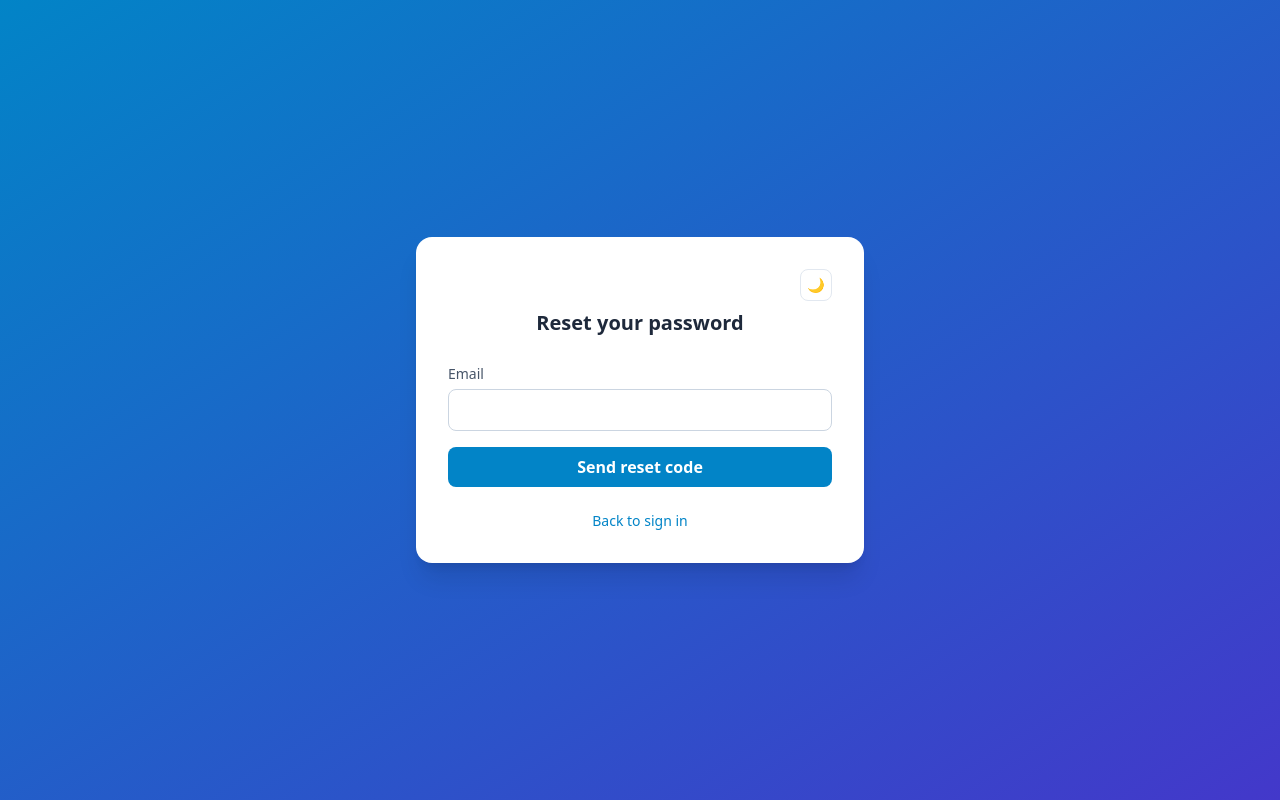
Scenario: ForgotPassword › submitting a valid code and new password completes the flow
In the field labelled "Email": (640, 410) [448,389,832,431], type "a@b.com"
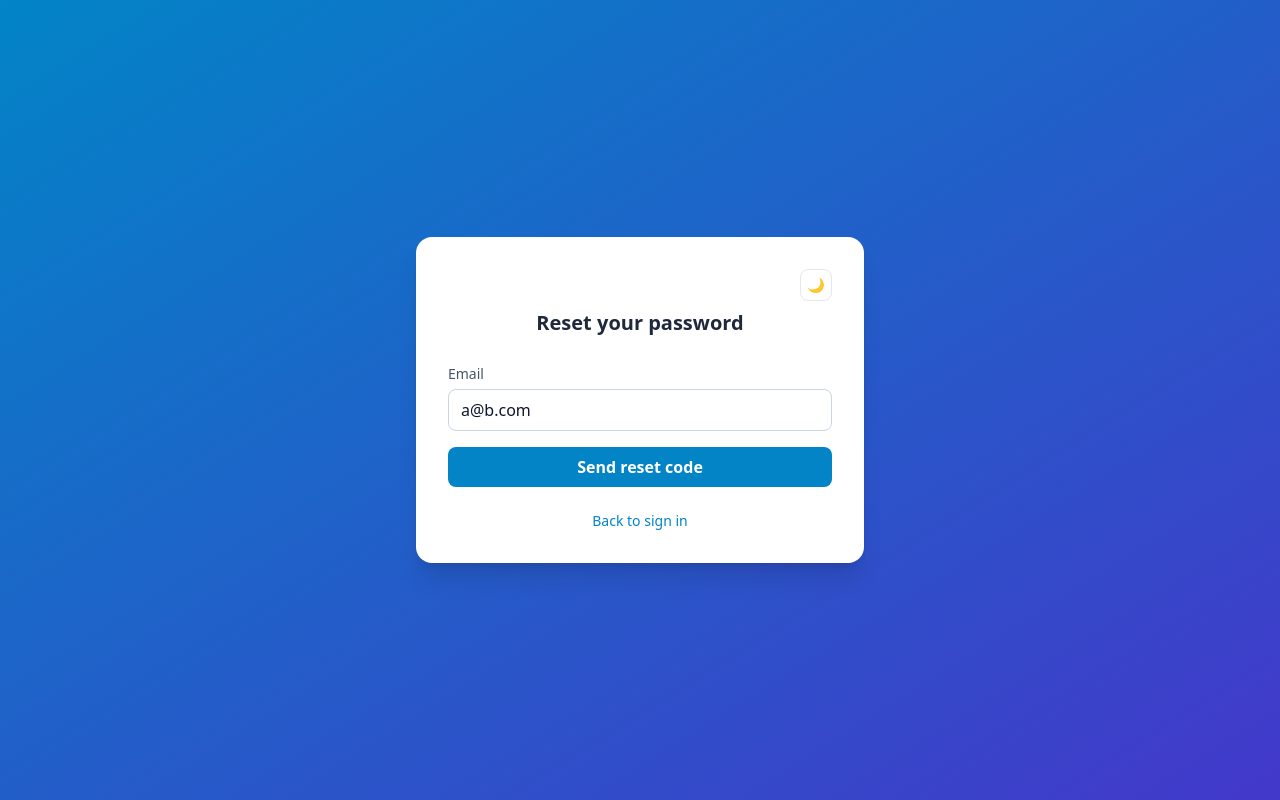
Click the button "Send reset code": (640, 467) [448,447,832,487]
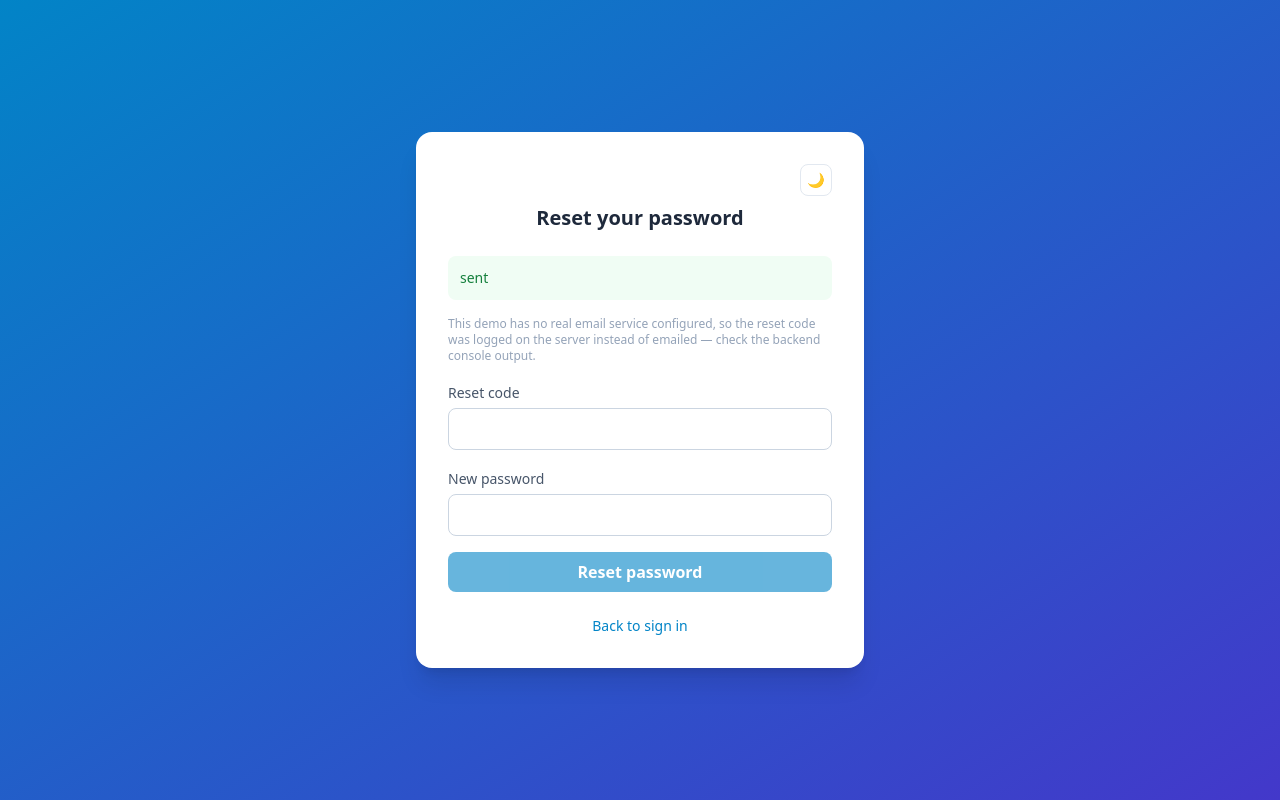
Expected: the field labelled "Reset code" is shown
In the field labelled "Reset code": (640, 429) [448,408,832,450], type "abc123"
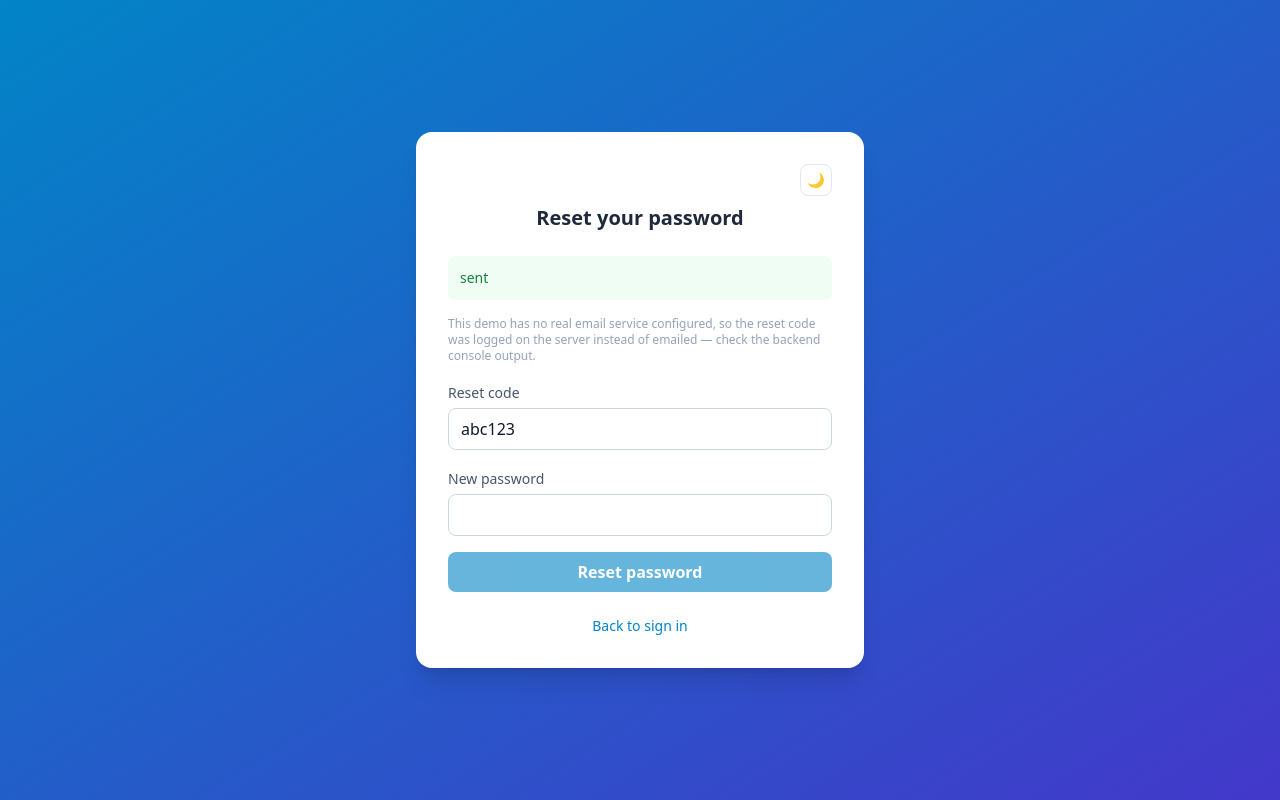
In the password field labelled "New password": (640, 515) [448,494,832,536], type "Newpass123!"
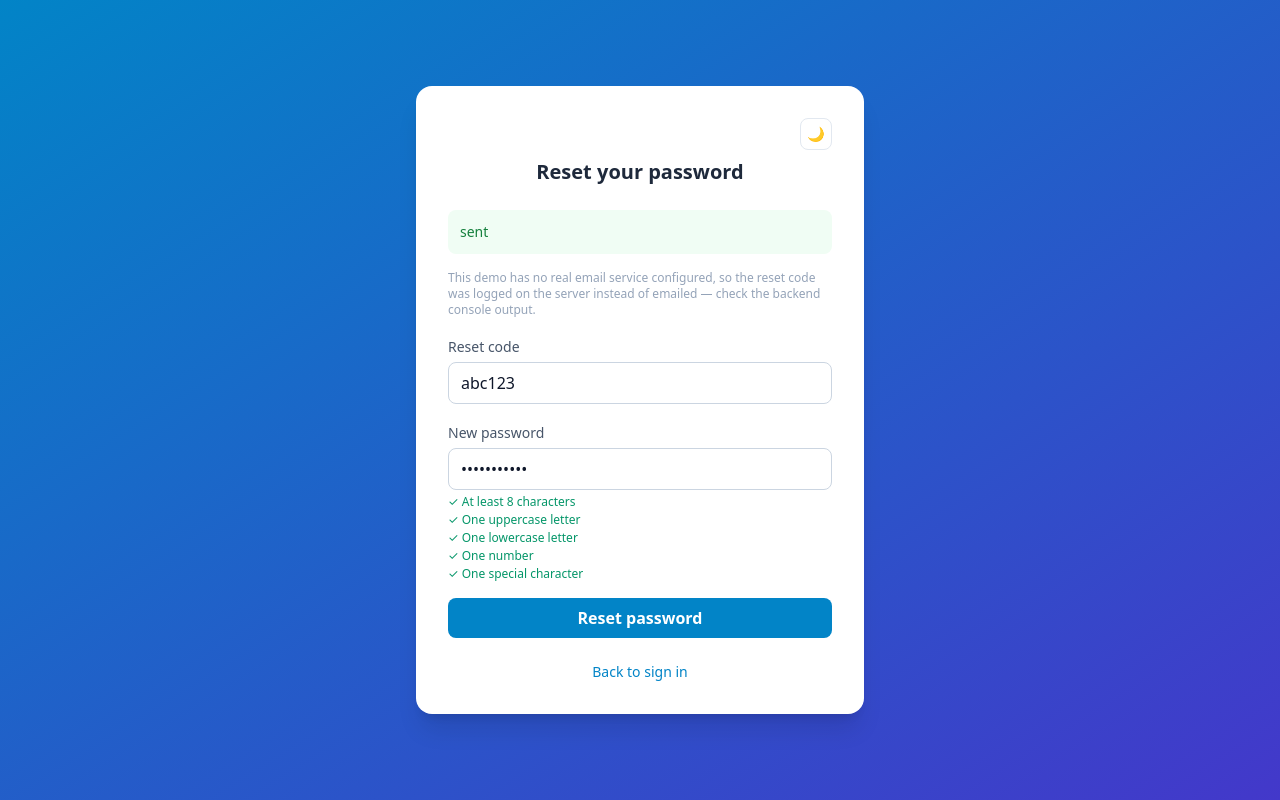
Click the button "Reset password": (640, 618) [448,598,832,638]
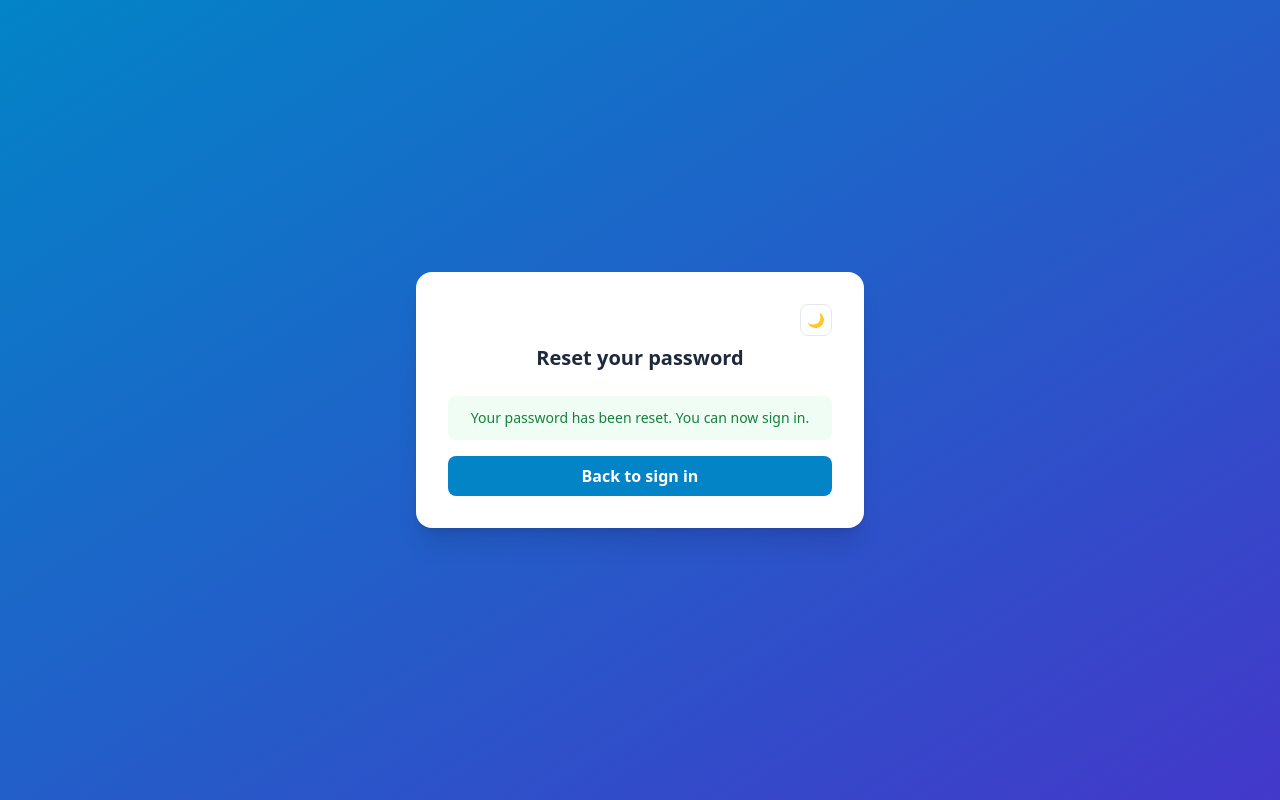
Expected: the text "Your password has been reset. You can now sign in." is shown, [448,396,832,440]
